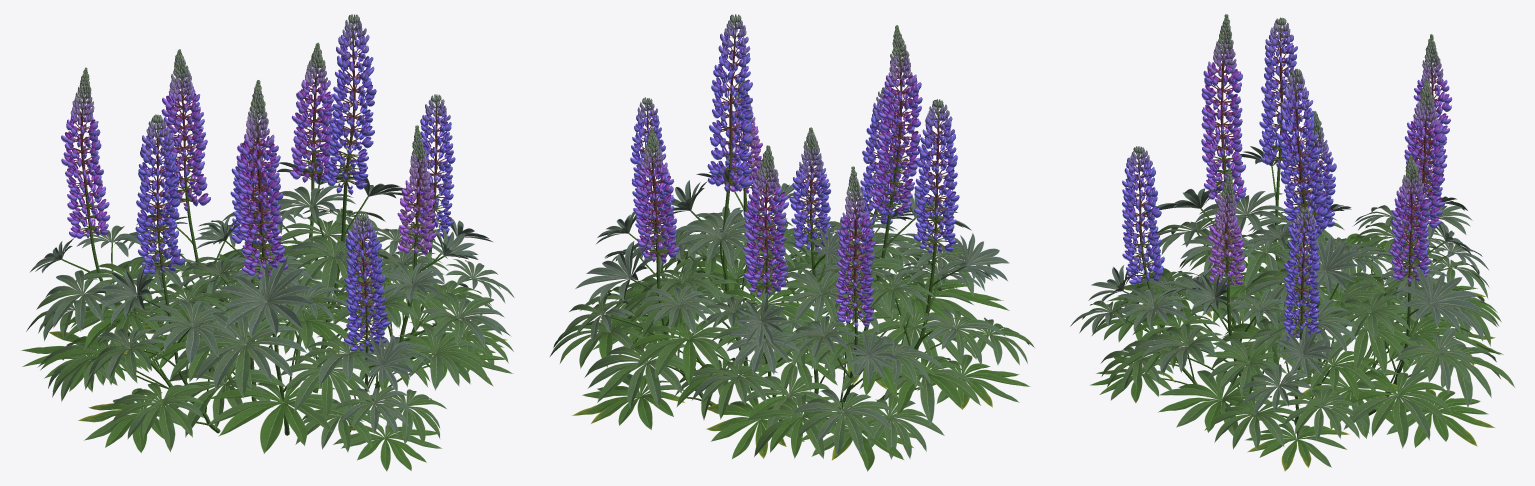
Rendered from realistic_hd_large-leaved_lupine_318.glb.
The picture shows the model from 3 angles, left to right: view 1: azimuth 30°, elevation 25°; view 2: azimuth 150°, elevation 25°; view 3: azimuth 270°, elevation 25°; orthographic projection. The views are drawn at different scales.
Parts seen in each view (by area): view 1: Lupinus_polyphyllus_HD_Lupinus leaflet 03_0, Lupinus_polyphyllus_HD_Lupinus leaflet 02_0, Lupinus_polyphyllus_HD_Lupinus leaflet 04_0, Lupinus_polyphyllus_HD_Lupinus leaflet 05_0, Lupinus_polyphyllus_HD_Lupinus bloom stalk 01_0, Lupinus_polyphyllus_HD_Lupinus leaflet 01_0, Lupinus_polyphyllus_HD_Lupin pet D 01 blue_0, Lupinus_polyphyllus_HD_Lupin pet D 01_0, Lupinus_polyphyllus_HD_Lupin pet U 01 blue_0, Lupinus_polyphyllus_HD_Lupin pet U 01_0, Lupinus_polyphyllus_HD_Lupinus stalk 01_0, Lupinus_polyphyllus_HD_Lupinus leaf stalk 01_0 (+10 smaller); view 2: Lupinus_polyphyllus_HD_Lupinus leaflet 03_0, Lupinus_polyphyllus_HD_Lupinus leaflet 02_0, Lupinus_polyphyllus_HD_Lupinus leaflet 04_0, Lupinus_polyphyllus_HD_Lupinus leaflet 01_0, Lupinus_polyphyllus_HD_Lupinus leaflet 05_0, Lupinus_polyphyllus_HD_Lupin pet D 01_0, Lupinus_polyphyllus_HD_Lupinus bloom stalk 01_0, Lupinus_polyphyllus_HD_Lupin pet D 01 blue_0, Lupinus_polyphyllus_HD_Lupin pet U 01_0, Lupinus_polyphyllus_HD_Lupin pet U 01 blue_0, Lupinus_polyphyllus_HD_Lupinus leaflet 01 y1_0, Lupinus_polyphyllus_HD_Lupinus leaf stalk 01_0 (+10 smaller); view 3: Lupinus_polyphyllus_HD_Lupinus leaflet 03_0, Lupinus_polyphyllus_HD_Lupinus leaflet 02_0, Lupinus_polyphyllus_HD_Lupinus leaflet 04_0, Lupinus_polyphyllus_HD_Lupinus leaflet 05_0, Lupinus_polyphyllus_HD_Lupinus leaflet 01_0, Lupinus_polyphyllus_HD_Lupin pet D 01 blue_0, Lupinus_polyphyllus_HD_Lupinus bloom stalk 01_0, Lupinus_polyphyllus_HD_Lupin pet U 01 blue_0, Lupinus_polyphyllus_HD_Lupin pet D 01_0, Lupinus_polyphyllus_HD_Lupin pet U 01_0, Lupinus_polyphyllus_HD_Lupinus leaflet 01 y1_0, Lupinus_polyphyllus_HD_Lupinus leaf stalk 01_0 (+11 smaller).
Part boxes in pixels (x1,y1,x2,y2): Lupinus_polyphyllus_HD_Lupinus leaflet 03_0: (26,208,511,449); Lupinus_polyphyllus_HD_Lupinus leaflet 02_0: (52,240,513,452); Lupinus_polyphyllus_HD_Lupinus leaflet 04_0: (43,186,514,435); Lupinus_polyphyllus_HD_Lupinus leaflet 05_0: (29,159,493,392); Lupinus_polyphyllus_HD_Lupinus bloom stalk 01_0: (70,21,445,364); Lupinus_polyphyllus_HD_Lupinus leaflet 01_0: (21,245,506,471); Lupinus_polyphyllus_HD_Lupin pet D 01 blue_0: (135,51,455,352); Lupinus_polyphyllus_HD_Lupin pet D 01_0: (61,89,335,280); Lupinus_polyphyllus_HD_Lupin pet U 01 blue_0: (139,37,451,347); Lupinus_polyphyllus_HD_Lupin pet U 01_0: (64,78,332,274); Lupinus_polyphyllus_HD_Lupinus stalk 01_0: (99,220,428,435); Lupinus_polyphyllus_HD_Lupinus leaf stalk 01_0: (83,185,472,438); Lupinus_polyphyllus_HD_Lupinus leaflet 03_0: (549,213,1027,459); Lupinus_polyphyllus_HD_Lupinus leaflet 02_0: (553,227,1035,458); Lupinus_polyphyllus_HD_Lupinus leaflet 04_0: (567,206,1005,443); Lupinus_polyphyllus_HD_Lupinus leaflet 01_0: (582,248,1030,471); Lupinus_polyphyllus_HD_Lupinus leaflet 05_0: (575,168,1009,382); Lupinus_polyphyllus_HD_Lupin pet D 01_0: (634,81,922,327); Lupinus_polyphyllus_HD_Lupinus bloom stalk 01_0: (639,22,948,349); Lupinus_polyphyllus_HD_Lupin pet D 01 blue_0: (630,50,959,253); Lupinus_polyphyllus_HD_Lupin pet U 01_0: (637,73,918,323); Lupinus_polyphyllus_HD_Lupin pet U 01 blue_0: (633,35,955,248); Lupinus_polyphyllus_HD_Lupinus leaflet 01 y1_0: (571,290,992,460); Lupinus_polyphyllus_HD_Lupinus leaf stalk 01_0: (609,186,988,431); Lupinus_polyphyllus_HD_Lupinus leaflet 03_0: (1090,212,1500,450); Lupinus_polyphyllus_HD_Lupinus leaflet 02_0: (1091,230,1515,467); Lupinus_polyphyllus_HD_Lupinus leaflet 04_0: (1070,192,1489,414); Lupinus_polyphyllus_HD_Lupinus leaflet 05_0: (1088,145,1489,378); Lupinus_polyphyllus_HD_Lupinus leaflet 01_0: (1090,233,1503,457); Lupinus_polyphyllus_HD_Lupin pet D 01 blue_0: (1122,45,1336,339); Lupinus_polyphyllus_HD_Lupinus bloom stalk 01_0: (1131,25,1442,340); Lupinus_polyphyllus_HD_Lupin pet U 01 blue_0: (1124,36,1333,335); Lupinus_polyphyllus_HD_Lupin pet D 01_0: (1201,67,1451,283); Lupinus_polyphyllus_HD_Lupin pet U 01_0: (1205,60,1449,279); Lupinus_polyphyllus_HD_Lupinus leaflet 01 y1_0: (1141,268,1495,471); Lupinus_polyphyllus_HD_Lupinus leaf stalk 01_0: (1112,166,1452,437).
Size of the model in its own units: 1.25 by 1.04 by 1.21.
35 materials, 35 textured.
